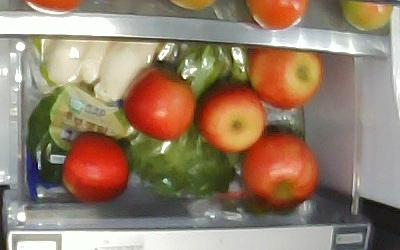apple: (241, 133, 319, 210), (124, 69, 196, 141), (246, 47, 324, 109), (196, 83, 266, 152), (62, 131, 129, 201)
